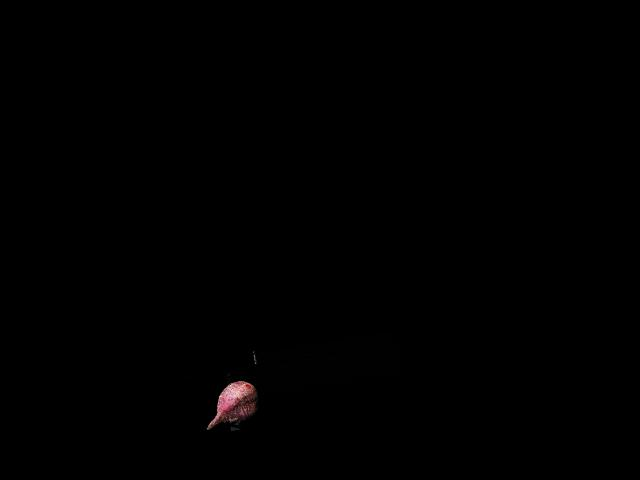beet: (200, 378, 262, 429)
